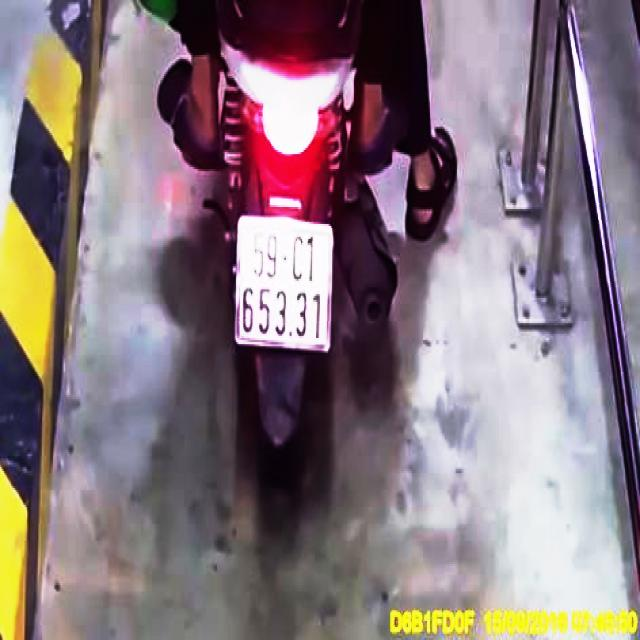license_plate: (238, 217, 334, 353)
